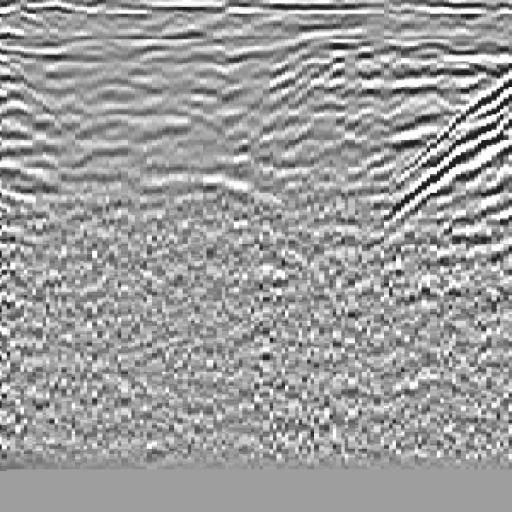metalic: (154, 45, 300, 256)
nonmetalic: (382, 58, 512, 262)
